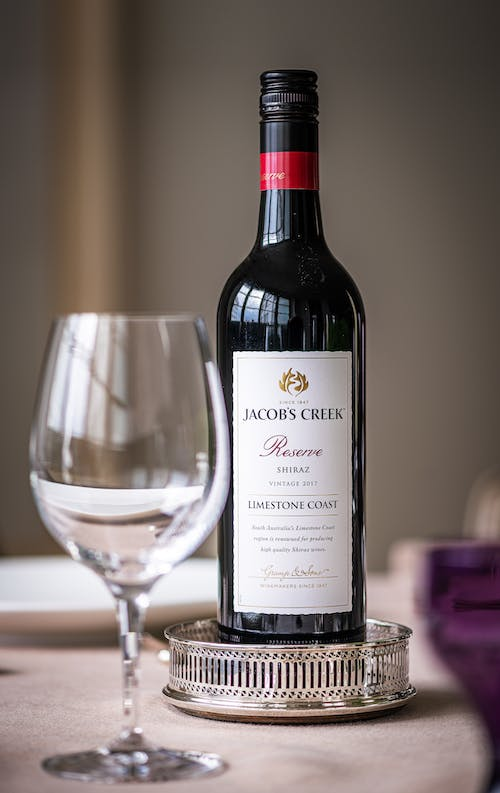alcohol: (214, 66, 369, 646)
